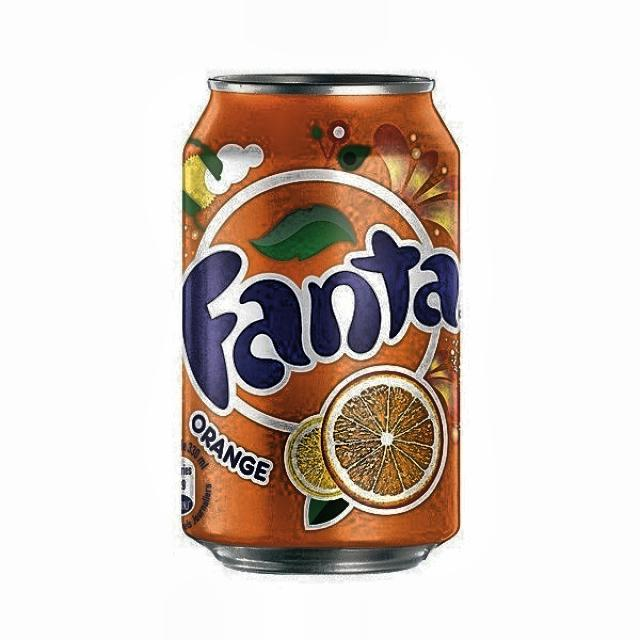Cans: (171, 65, 477, 586)
